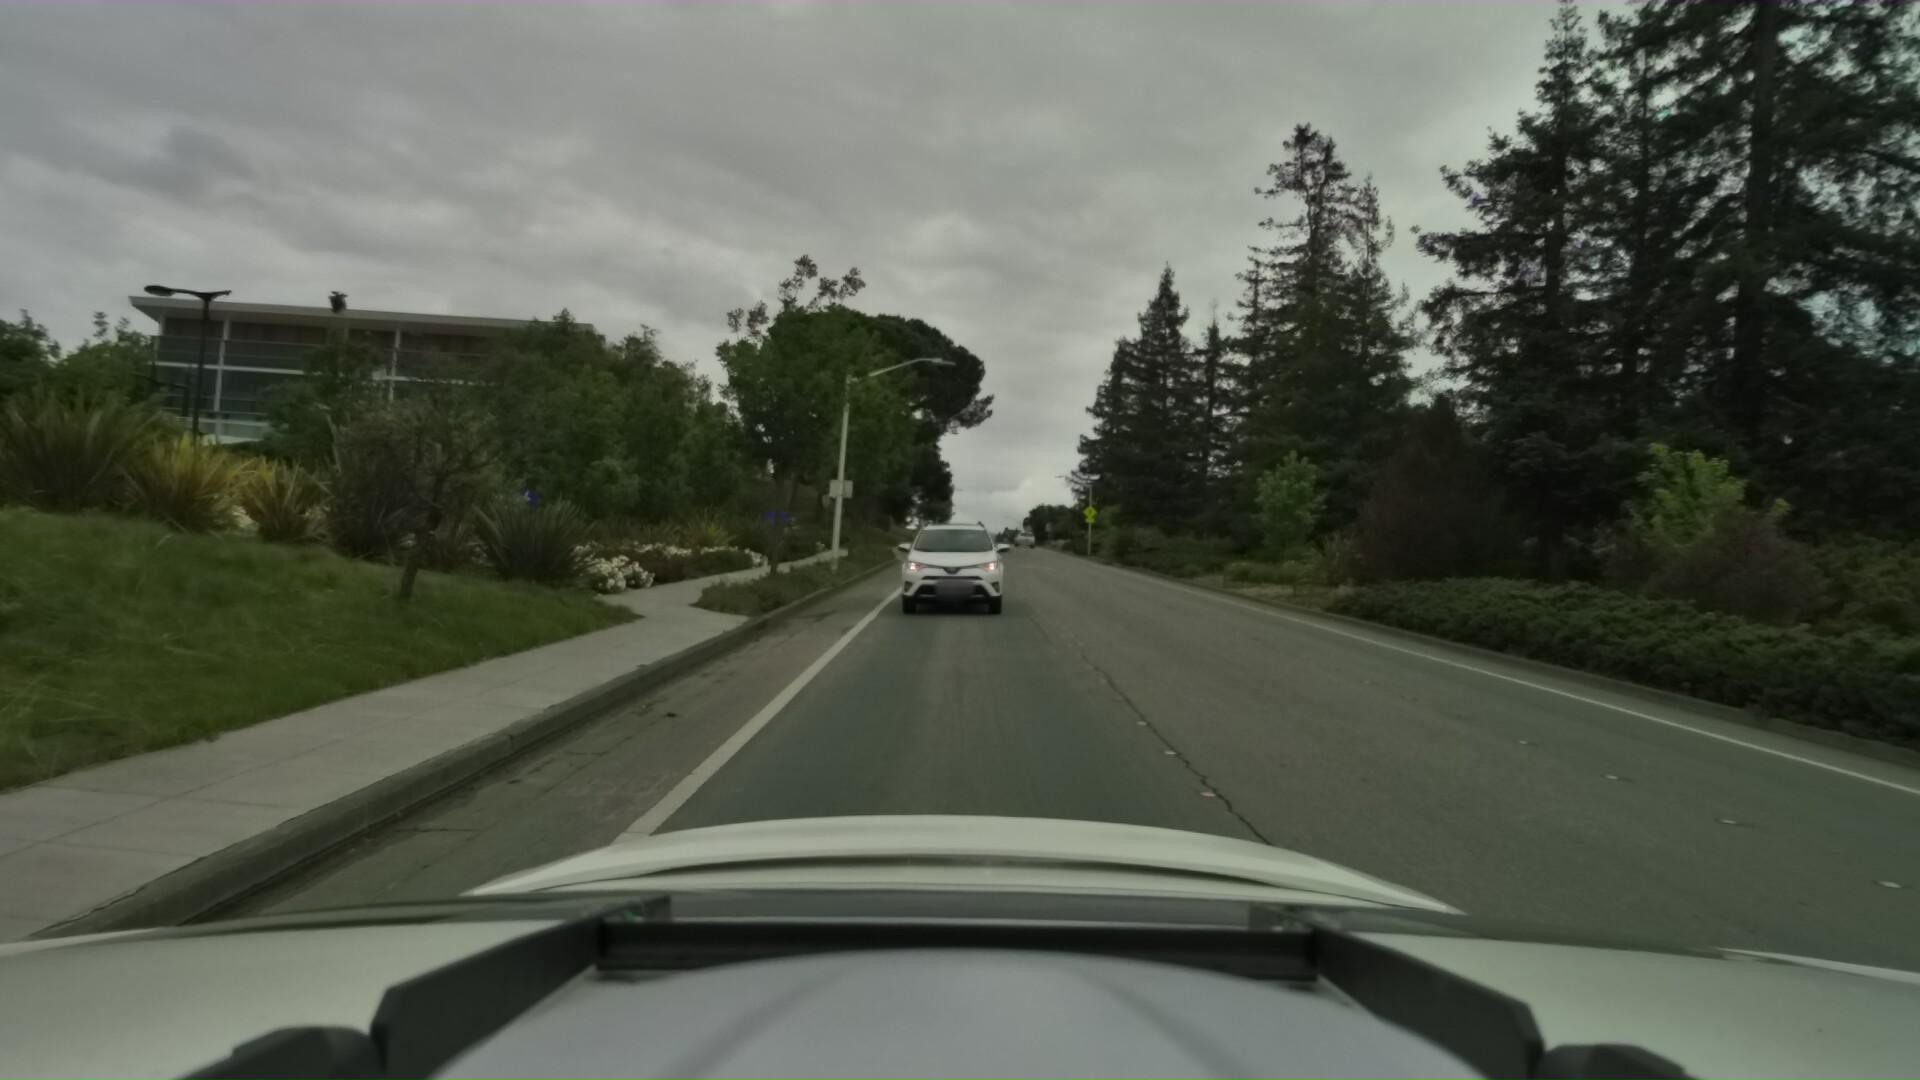car: (895, 504, 1006, 607)
